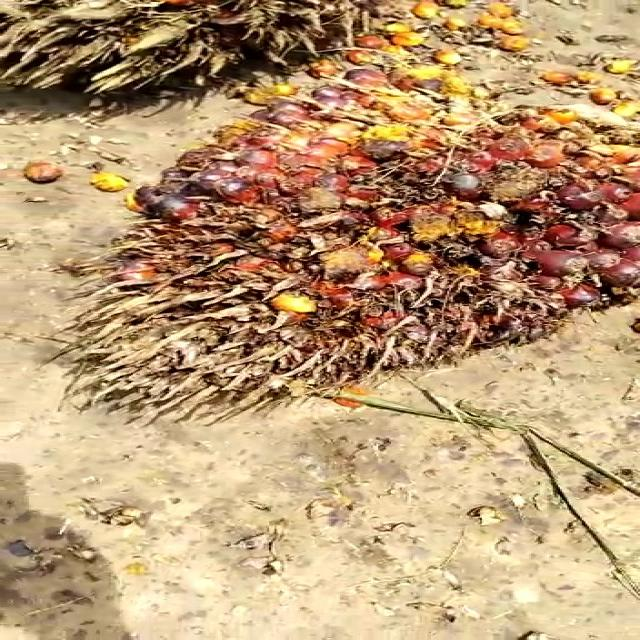palm oil: (81, 51, 640, 428)
